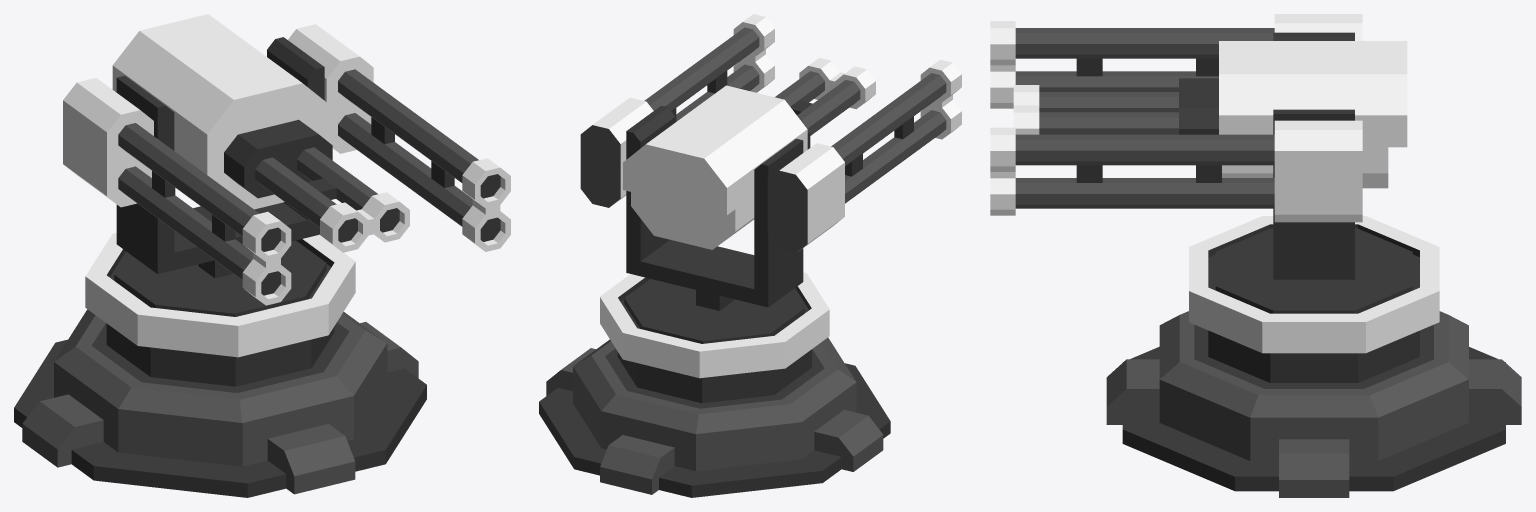
The model's file is AntiAir_3.fbx.
3 renders of one model, left to right at view 1: azimuth 30°, elevation 25°; view 2: azimuth 150°, elevation 25°; view 3: azimuth 270°, elevation 25°, orthographic. The views are drawn at different scales.
Visible parts, largest first — view 1: Base_Mesh, Upper_Mesh, Body_Mesh, Gun_1_Mesh, Gun_2_Mesh, Gun_3_Mesh; view 2: Base_Mesh, Upper_Mesh, Body_Mesh, Gun_1_Mesh, Gun_2_Mesh, Gun_3_Mesh; view 3: Base_Mesh, Upper_Mesh, Body_Mesh, Gun_2_Mesh, Gun_1_Mesh, Gun_3_Mesh.
Part boxes in pixels (bbox=[...]): Base_Mesh: bbox=[14, 309, 426, 497]; Upper_Mesh: bbox=[85, 37, 355, 386]; Body_Mesh: bbox=[63, 14, 373, 209]; Gun_1_Mesh: bbox=[118, 123, 291, 305]; Gun_2_Mesh: bbox=[338, 69, 510, 251]; Gun_3_Mesh: bbox=[255, 147, 409, 252]; Base_Mesh: bbox=[539, 337, 890, 497]; Upper_Mesh: bbox=[600, 105, 829, 403]; Body_Mesh: bbox=[580, 85, 844, 253]; Gun_1_Mesh: bbox=[831, 59, 961, 203]; Gun_2_Mesh: bbox=[644, 14, 774, 122]; Gun_3_Mesh: bbox=[775, 58, 875, 135]; Base_Mesh: bbox=[1106, 311, 1521, 497]; Upper_Mesh: bbox=[1189, 32, 1439, 382]; Body_Mesh: bbox=[1179, 14, 1407, 222]; Gun_2_Mesh: bbox=[990, 127, 1274, 215]; Gun_1_Mesh: bbox=[990, 21, 1274, 108]; Gun_3_Mesh: bbox=[1013, 85, 1178, 134].
Bounding box in the file's own units: 1.3 × 1.22 × 1.67.
